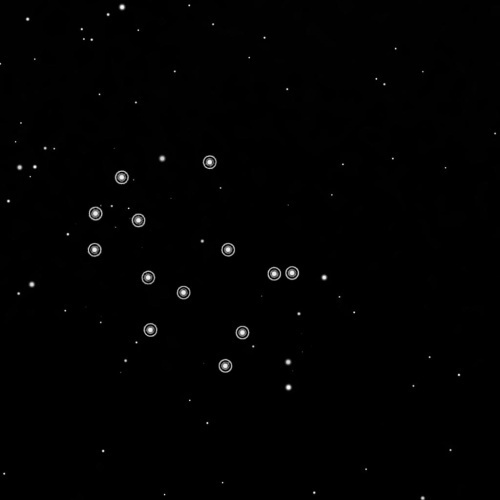gemini: (82, 154, 305, 379)
